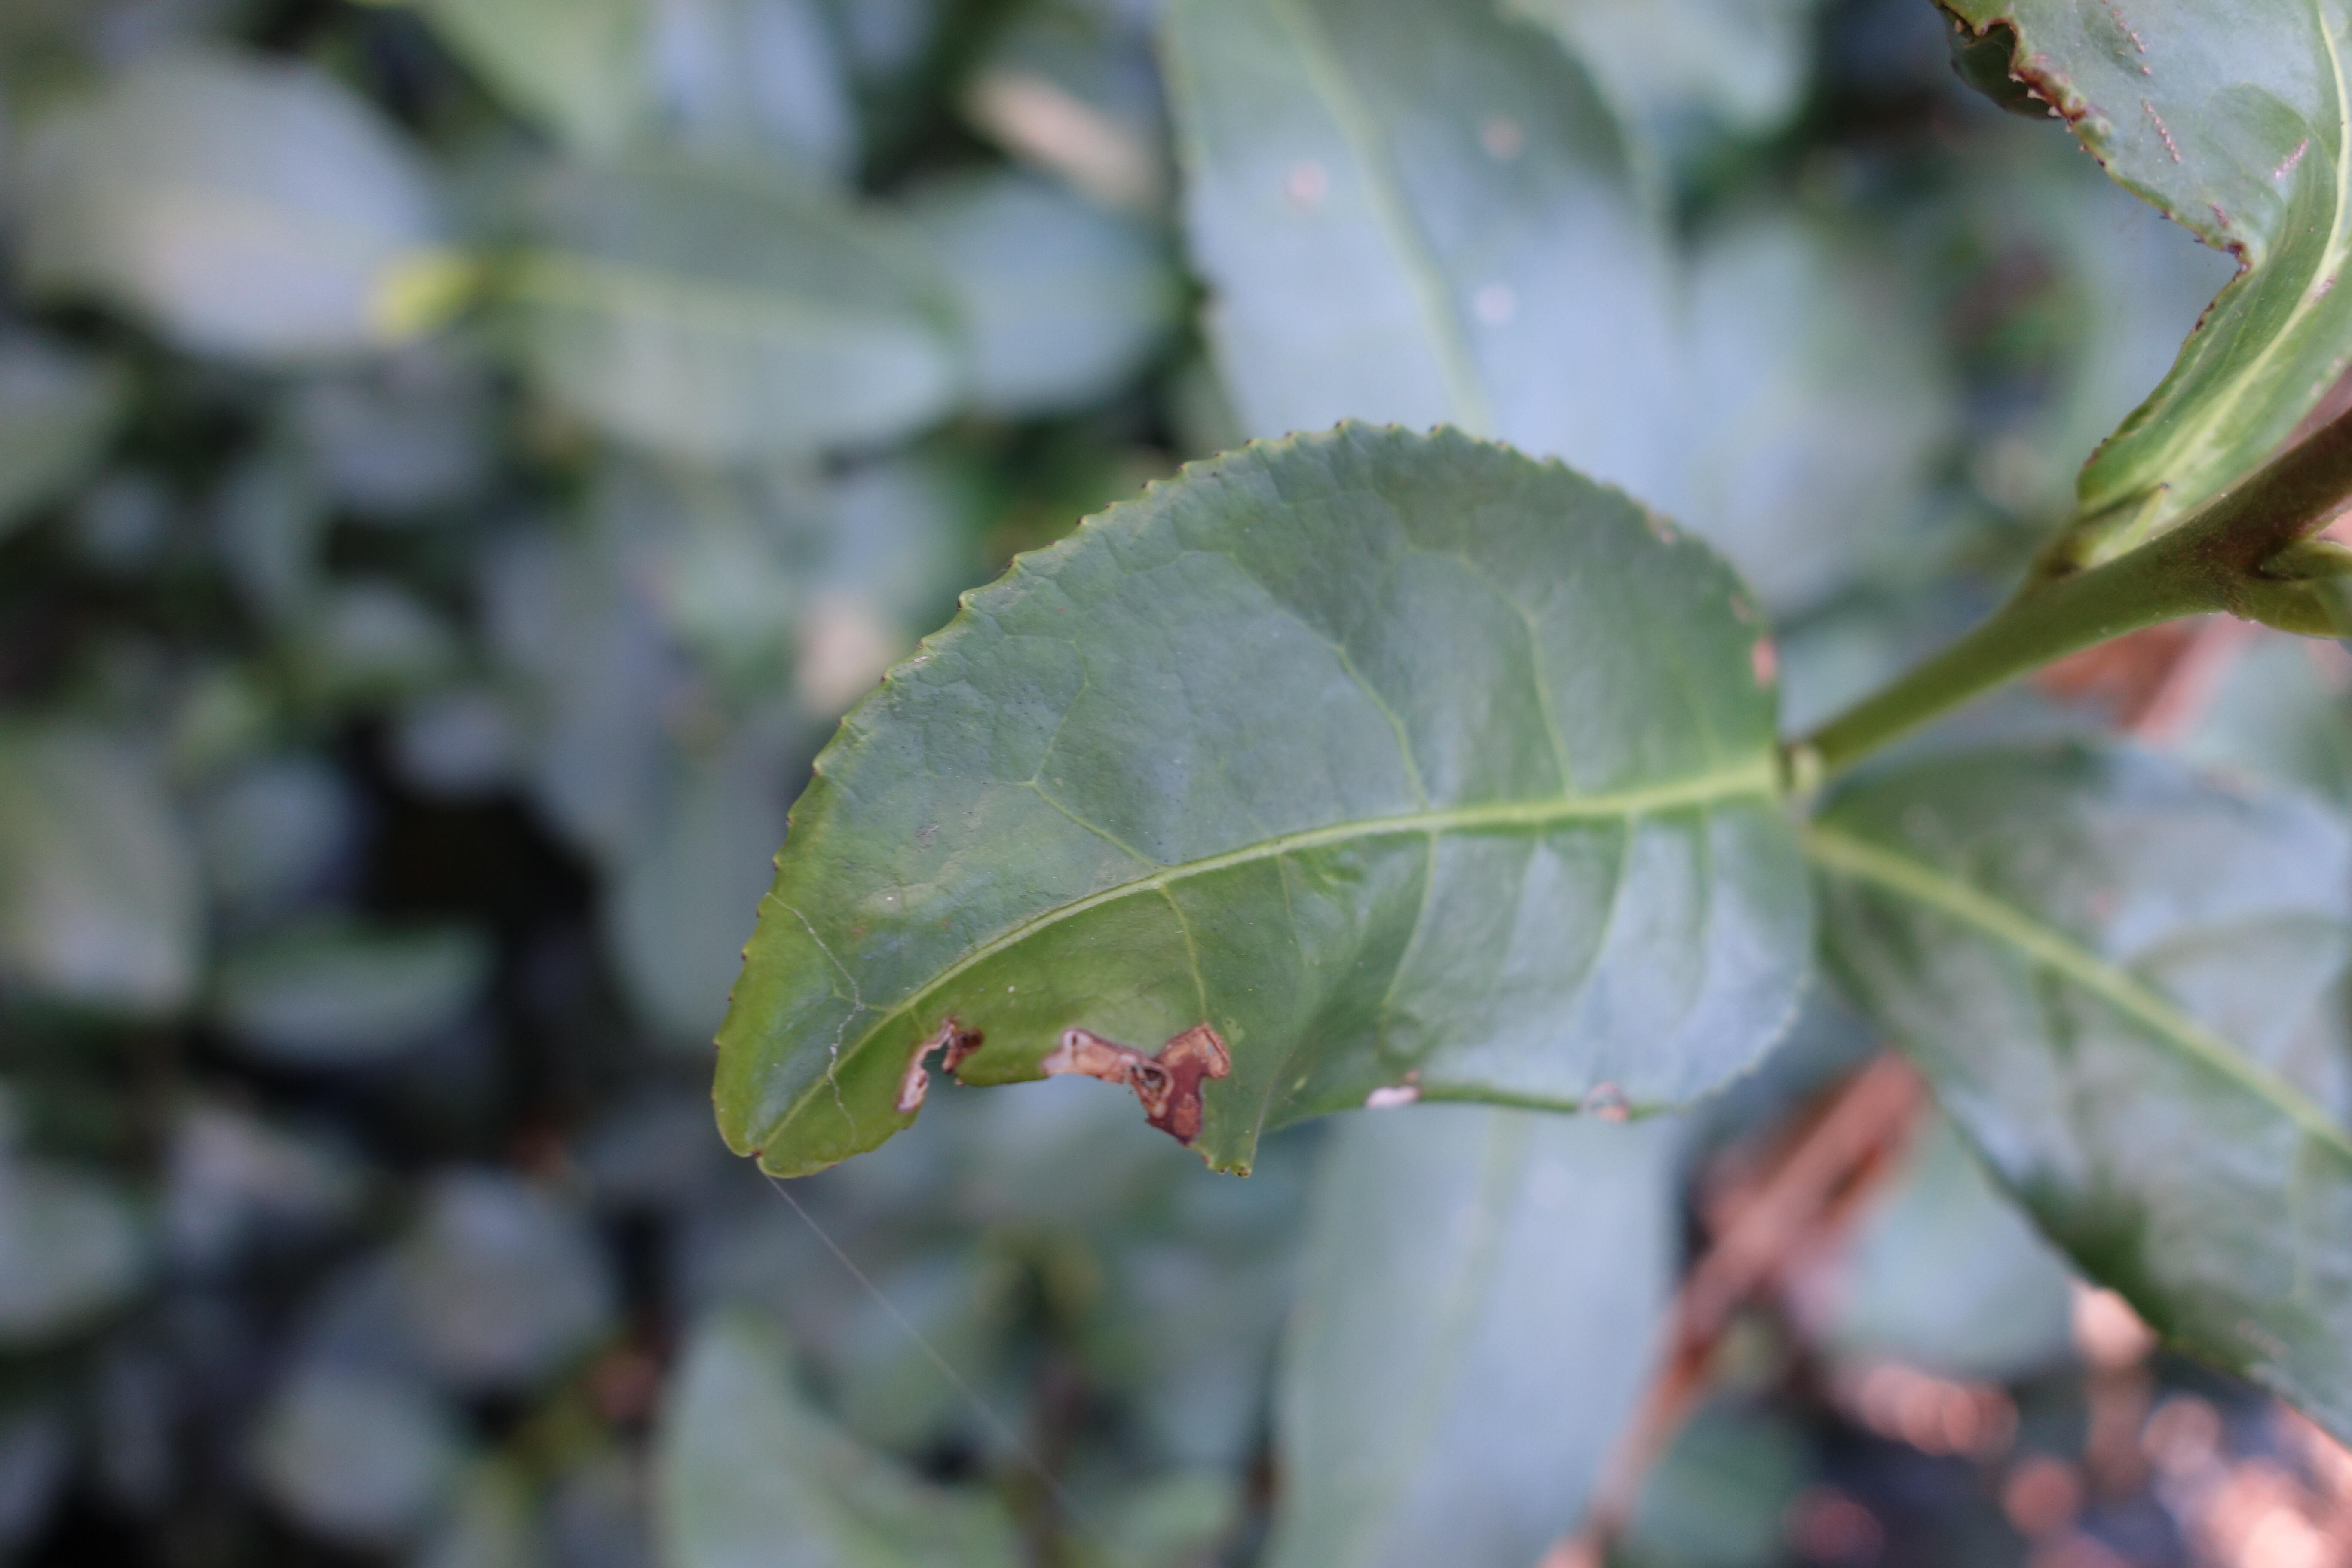tanju_low: (712, 416, 1809, 1179)
